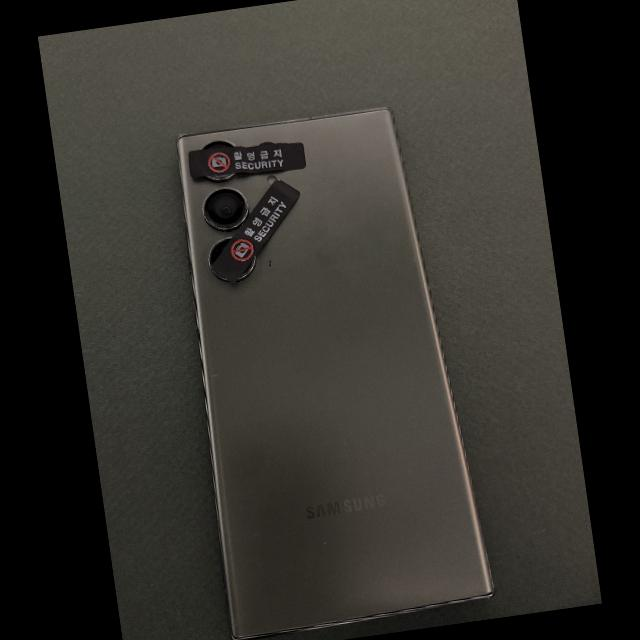lens: (204, 188, 247, 229), (210, 238, 231, 265), (205, 140, 232, 149), (259, 142, 274, 146)
phone: (176, 109, 495, 640)
sticker: (211, 180, 300, 283), (188, 142, 306, 178)
